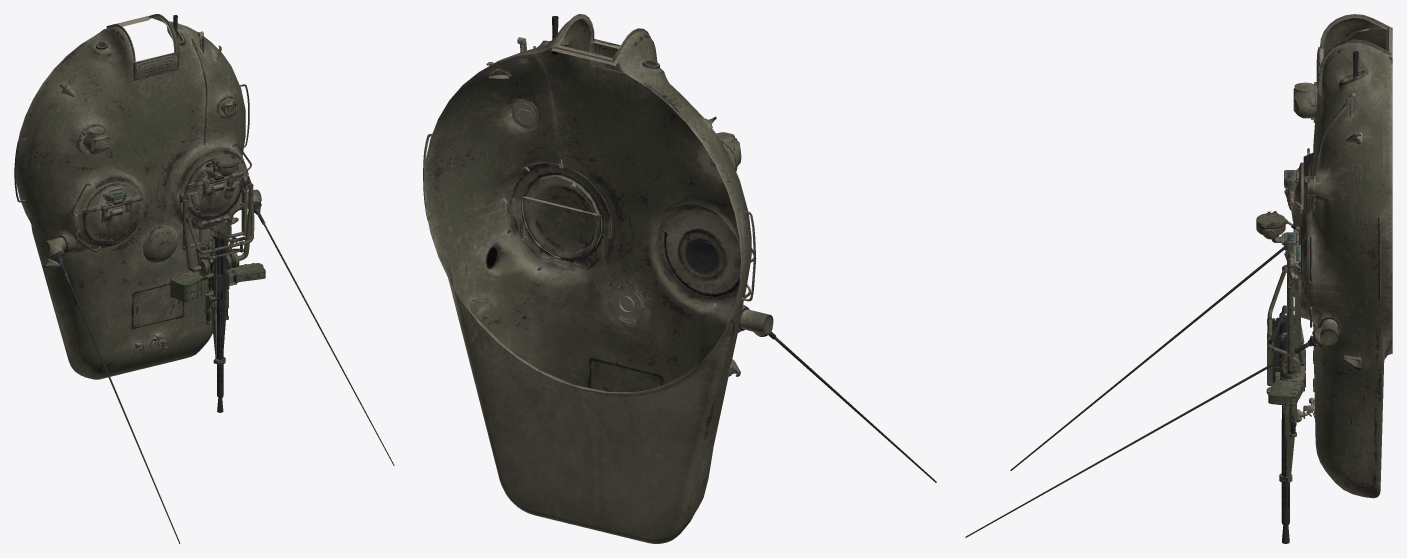
Rendered from Turret_01.glb.
The picture shows the model from 3 angles, left to right: view 1: azimuth 30°, elevation 25°; view 2: azimuth 150°, elevation 25°; view 3: azimuth 270°, elevation 25°; orthographic projection. The views are drawn at different scales.
Visible parts, largest first — view 1: set_0_group_0, set_0_group_1; view 2: set_0_group_0; view 3: set_0_group_0, set_0_group_1.
Part boxes in pixels (x1=…): set_0_group_0: x1=14, y1=14, x2=394, y2=543; set_0_group_1: x1=170, y1=180, x2=265, y2=412; set_0_group_0: x1=423, y1=14, x2=936, y2=543; set_0_group_0: x1=965, y1=14, x2=1392, y2=537; set_0_group_1: x1=1266, y1=264, x2=1305, y2=543.
Bounding box in the file's own units: 2.78 × 4.51 × 3.46.
Materials: 2 (2 with a texture image).
